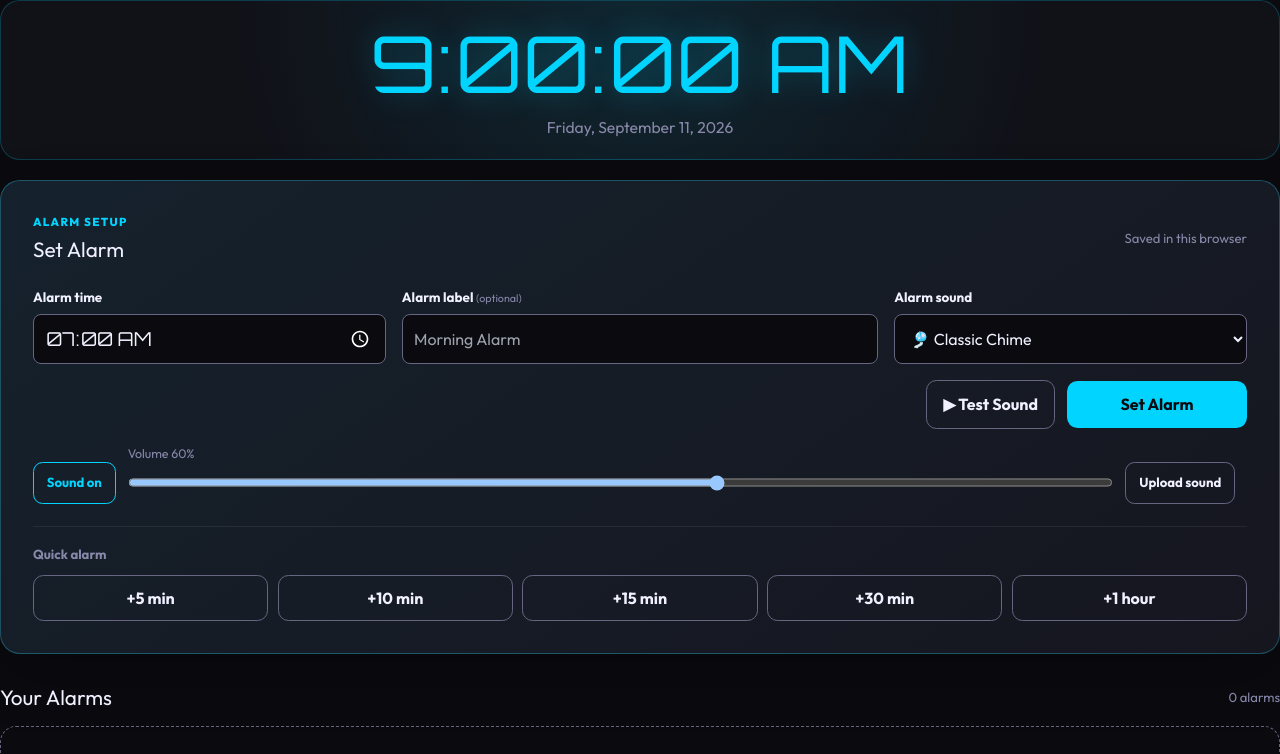
Test case: AlarmClient › rings, snoozes five minutes, and stops
The width and height of the screenshot is (1280, 754).
Step 1. Click the button "+5 min" → click(151, 598), box [33,575,268,621]
Wait 300000 ms
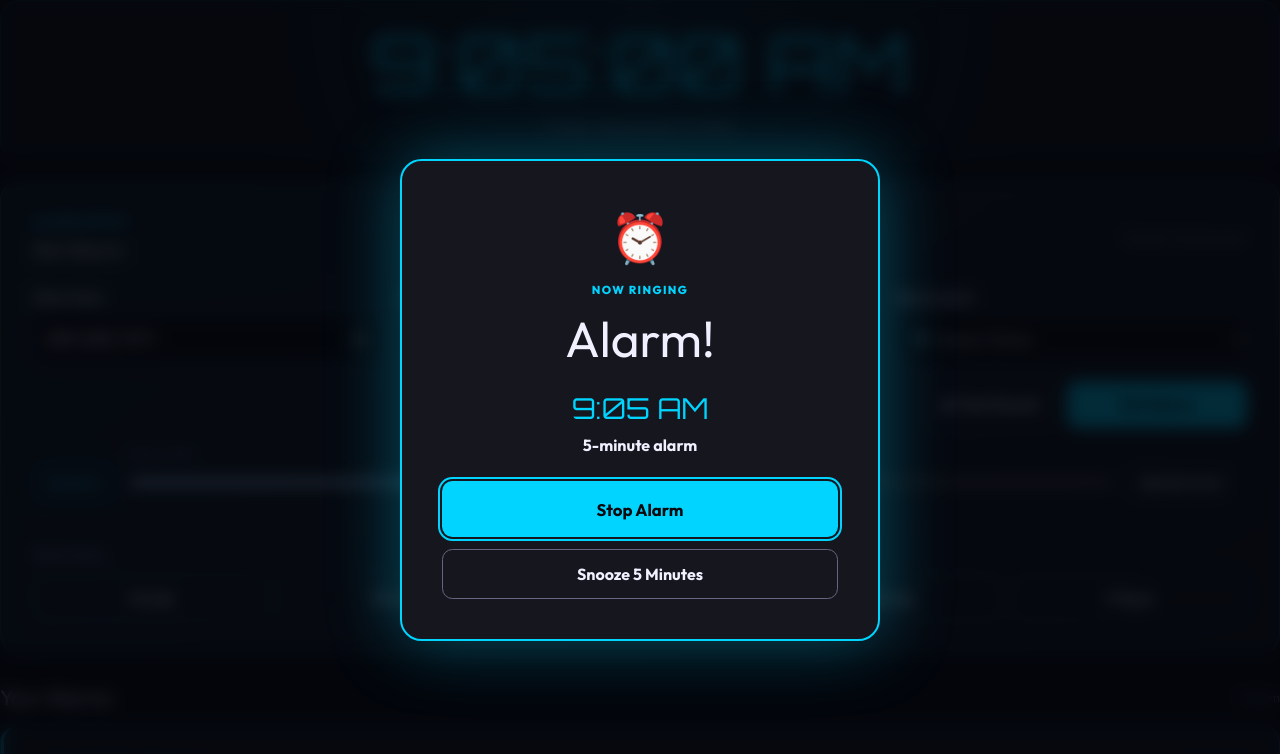
expect the dialog is shown: met, box [400,159,880,641]
Step 2. Click the button "Snooze 5 Minutes" → click(640, 574), box [442,549,838,599]
Wait 300000 ms
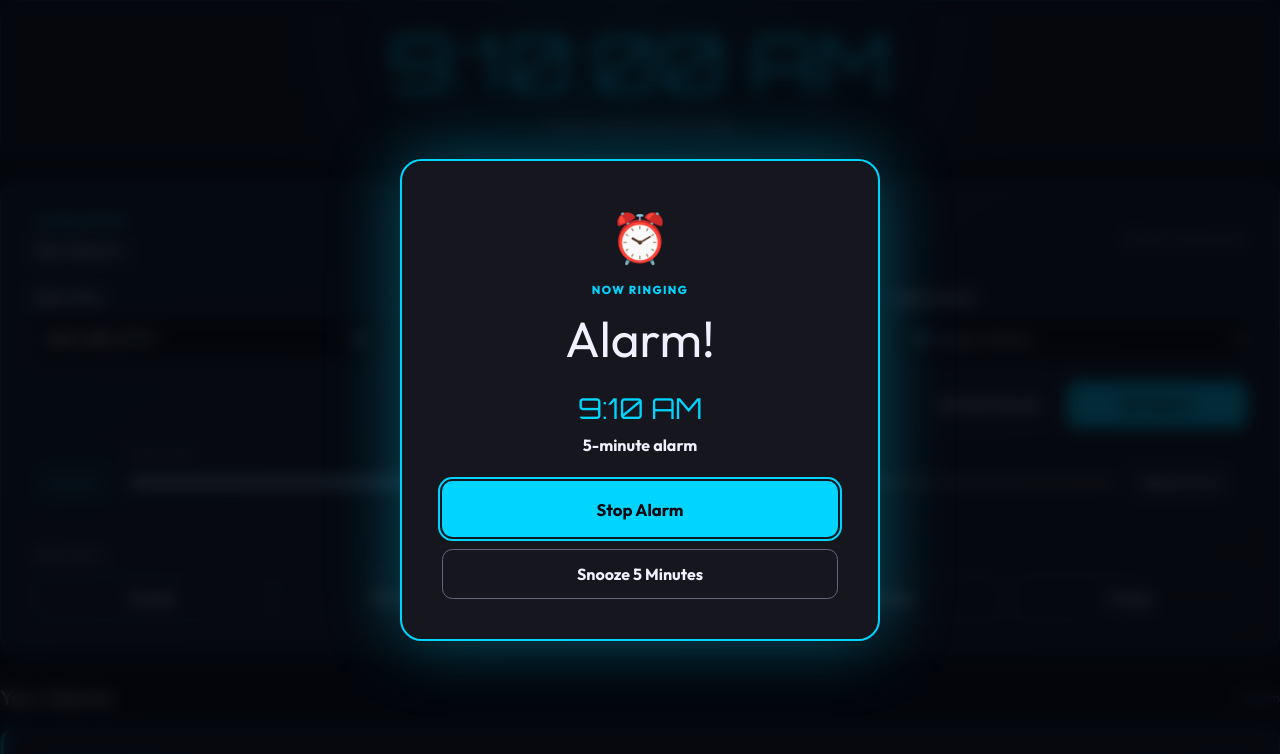
Step 3. Click the button "Stop Alarm" → click(640, 509), box [442,481,838,537]
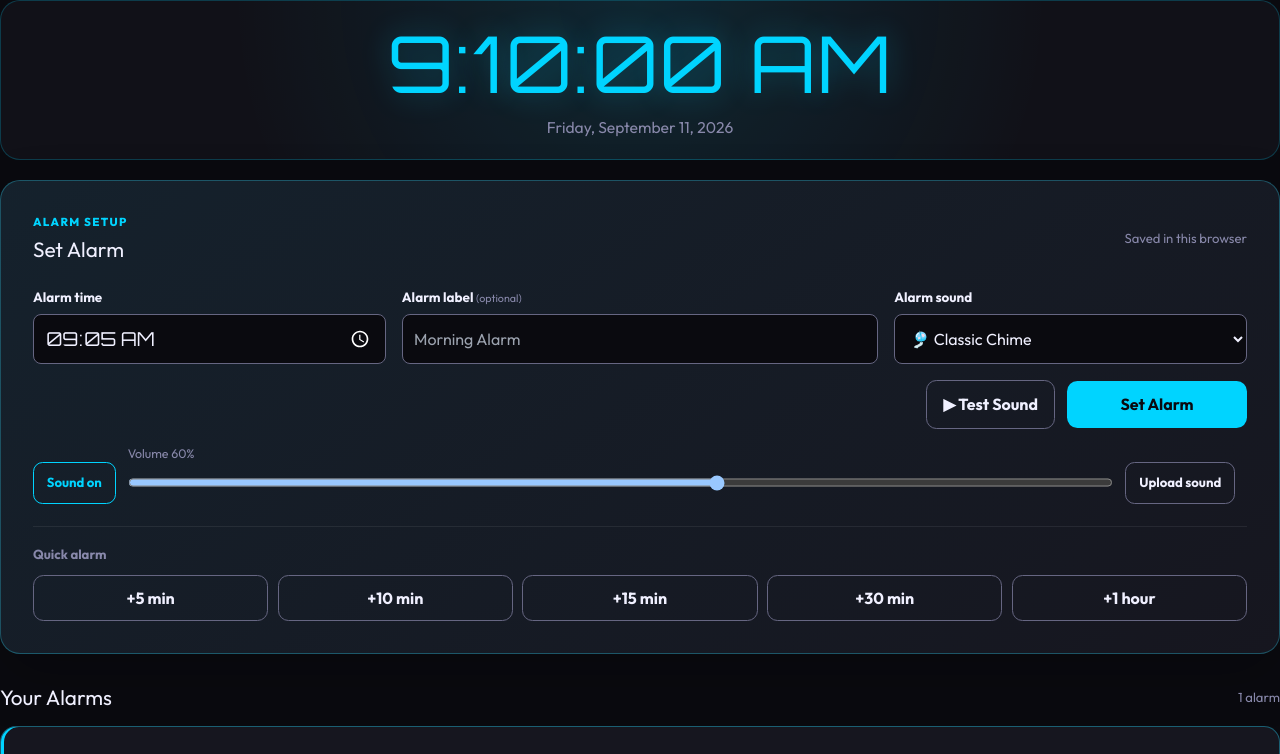
expect the dialog is gone: met
